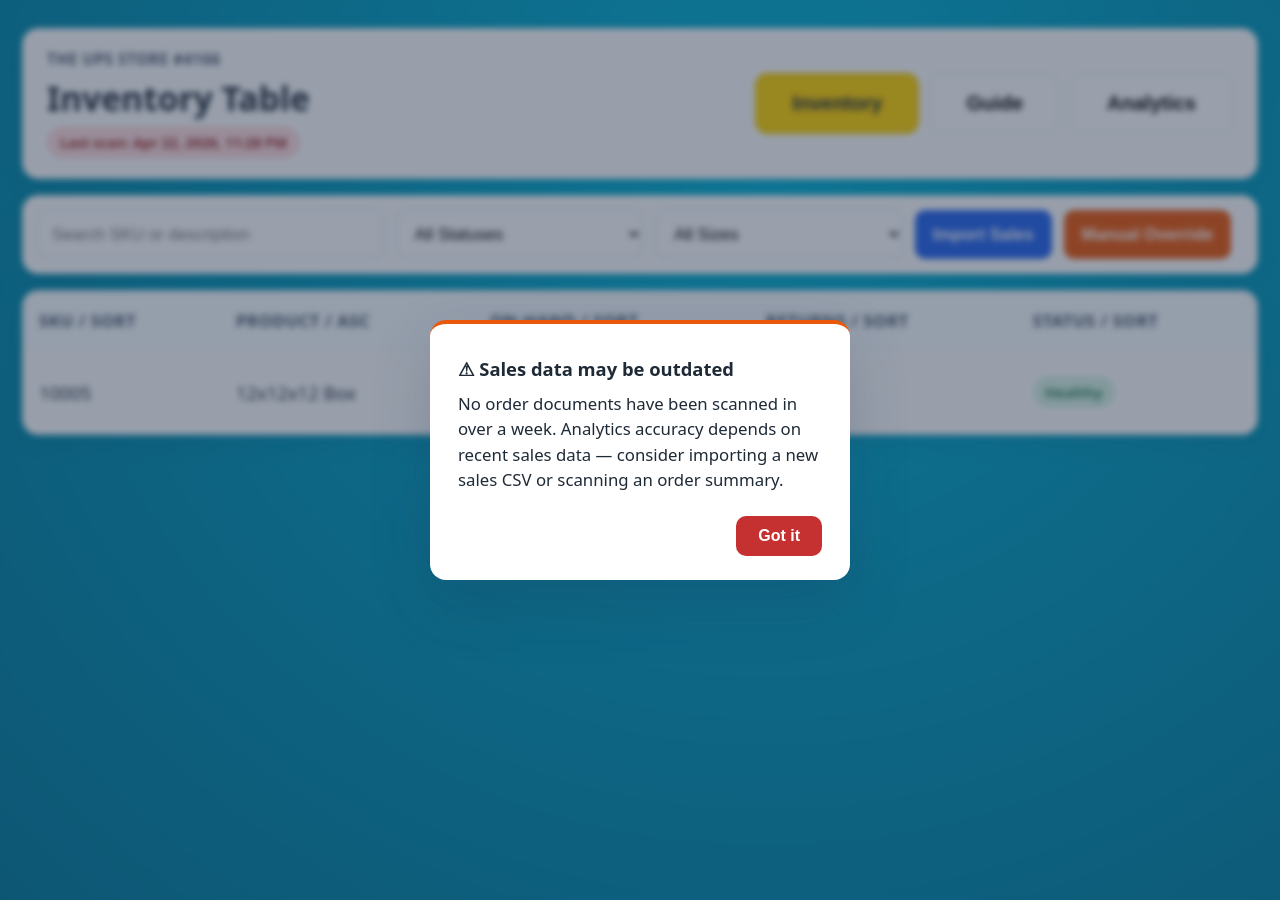
Scenario: stale scan alert dismisses on got it
Check: the text "⚠ Sales data may be outdated" is shown, box [458, 356, 734, 381]
Click the button "Got it": coordinates (779, 536) [736, 516, 822, 556]
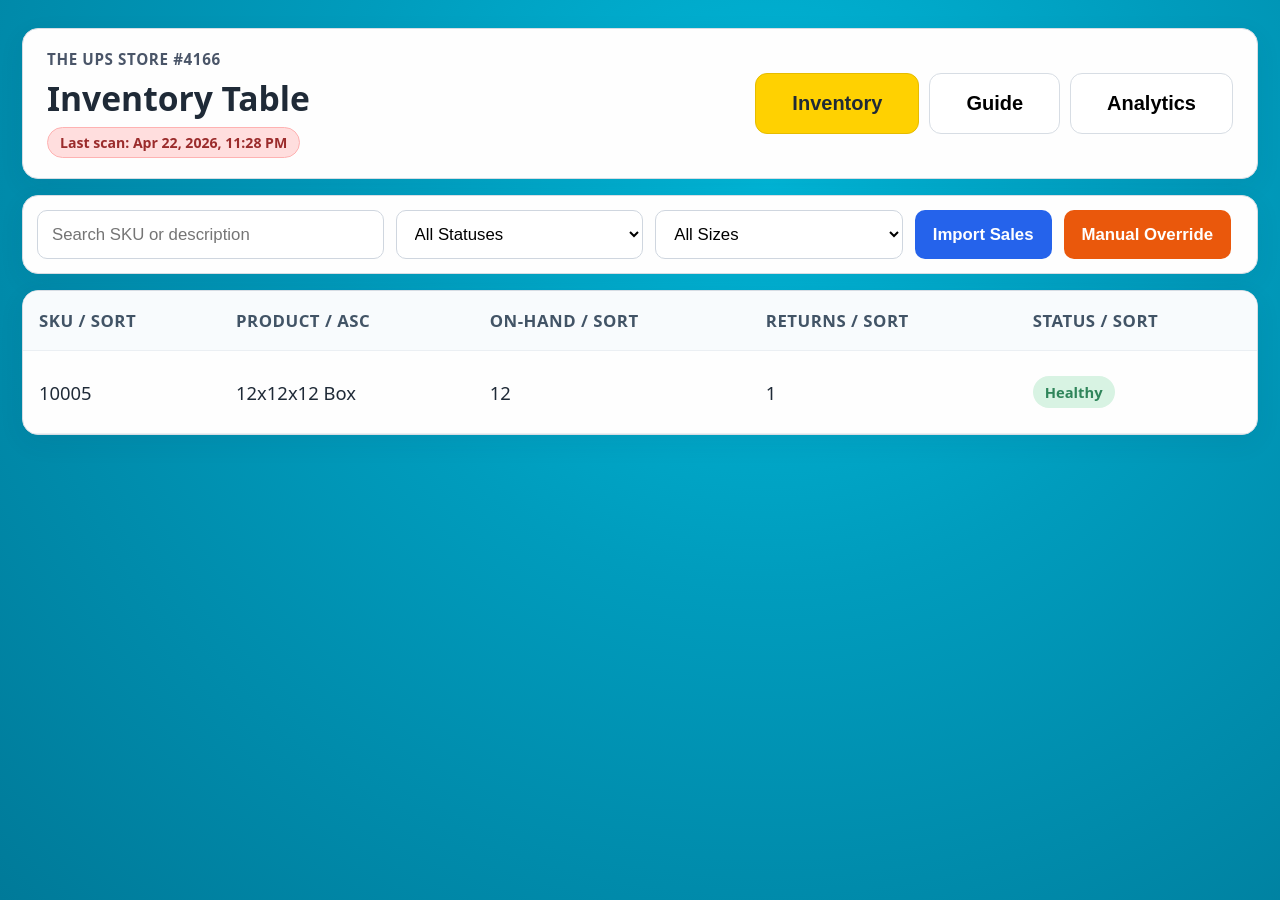
Check: the text "Sales data may be outdated" is gone
